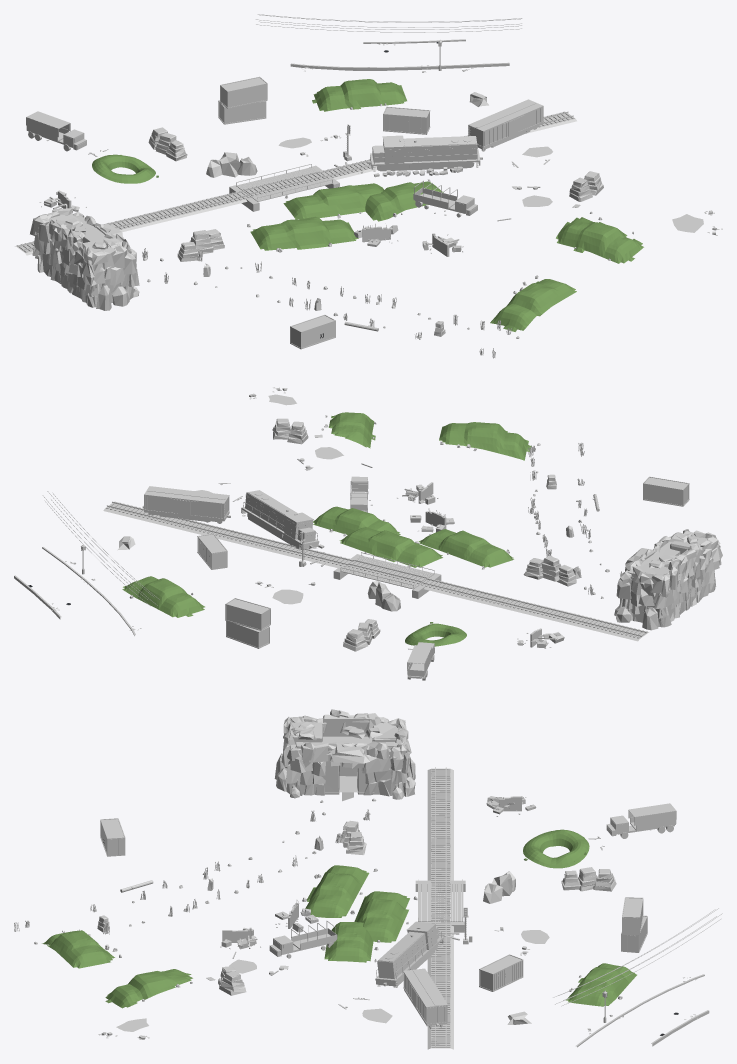
The model's file is outdoor_02.glb.
The picture shows the model from 3 angles, top to bottom: view 1: azimuth 30°, elevation 25°; view 2: azimuth 150°, elevation 25°; view 3: azimuth 270°, elevation 25°; orthographic projection. The views are drawn at different scales.
Visible parts, largest first — view 1: gas_station_town; view 2: gas_station_town; view 3: gas_station_town.
Boxes of the visible parts, <box> form: gas_station_town: <box>15,14,722,358</box>; gas_station_town: <box>14,387,722,680</box>; gas_station_town: <box>14,709,722,1049</box>.
Bounding box in the file's own units: 90.37 × 13.01 × 93.76.
5 materials, 4 textured.
